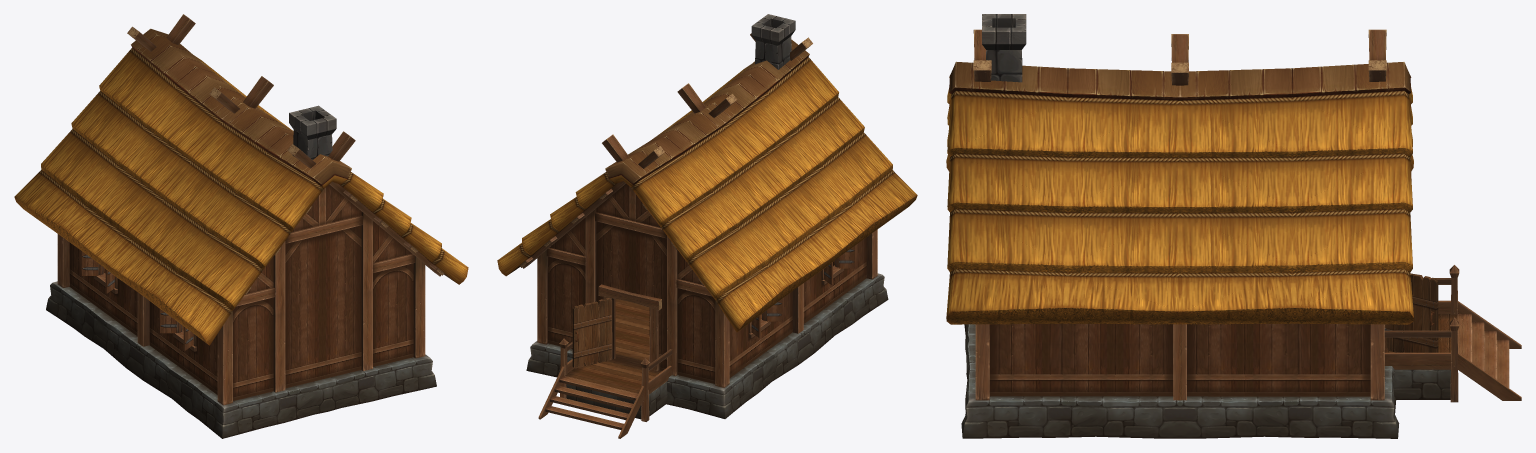
File: house.obj
3 views of the same model, side by side, from view 1: azimuth 30°, elevation 25°; view 2: azimuth 150°, elevation 25°; view 3: azimuth 270°, elevation 25° (orthographic). The views are drawn at different scales.
Parts seen in each view (by area): view 1: WoodenHouse; view 2: WoodenHouse; view 3: WoodenHouse.
Boxes of the visible parts, x1,y1,x2,y2 form: WoodenHouse: (14, 14, 468, 438); WoodenHouse: (497, 14, 917, 438); WoodenHouse: (946, 14, 1521, 438).
Size of the model in its own units: 8.84 by 8.97 by 13.31.
1 material, 1 textured.
